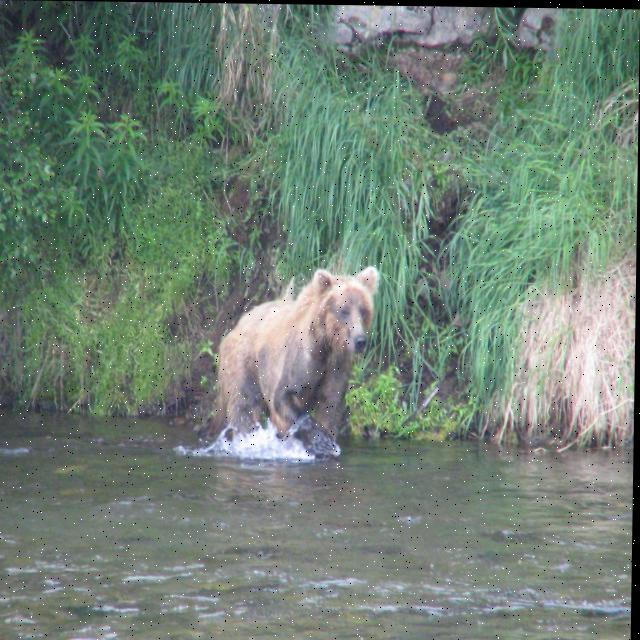bear face: (213, 263, 381, 443)
